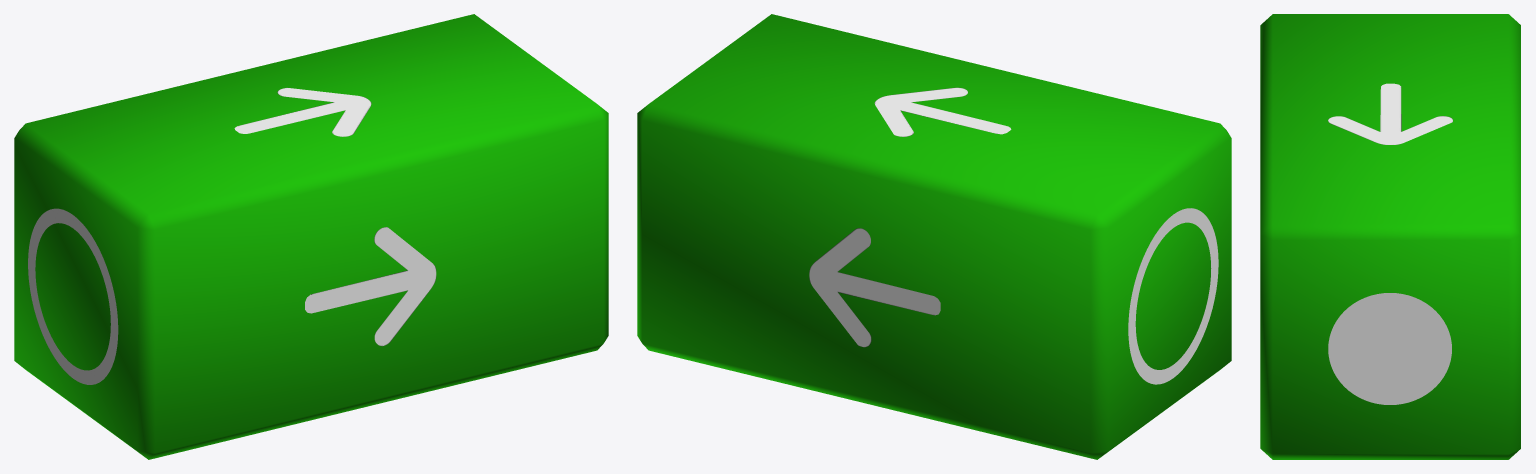
The model's file is BigBoxTapFlowBox_1_1_2_Clean_test2.fbx.
3 renders of one model, left to right at view 1: azimuth 30°, elevation 25°; view 2: azimuth 150°, elevation 25°; view 3: azimuth 270°, elevation 25°, orthographic. The views are drawn at different scales.
Visible parts, largest first — view 1: ц; view 2: ц; view 3: ц.
Boxes of the visible parts, x1,y1,x2,y2 form: ц: [14, 14, 608, 459]; ц: [637, 14, 1231, 459]; ц: [1260, 14, 1520, 459].
Size of the model in its own units: 2.11 by 1.05 by 1.05.
Materials: 1 (1 with a texture image).
